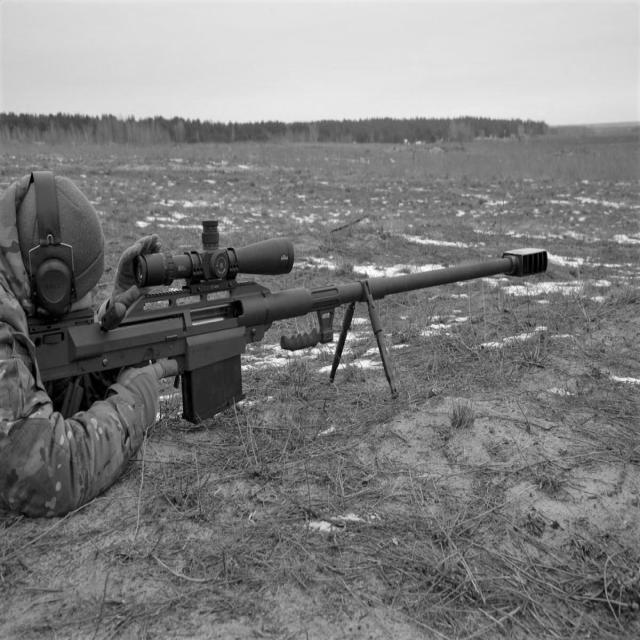Sniper: (38, 213, 555, 450)
